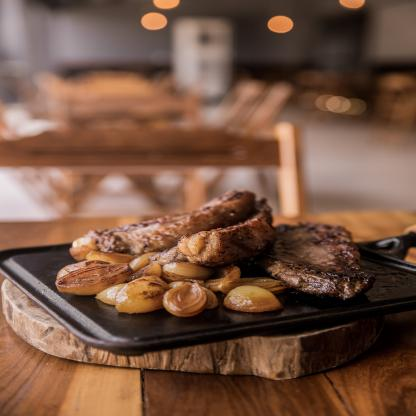Carne: (77, 187, 260, 261), (268, 216, 370, 295), (194, 205, 292, 262)
